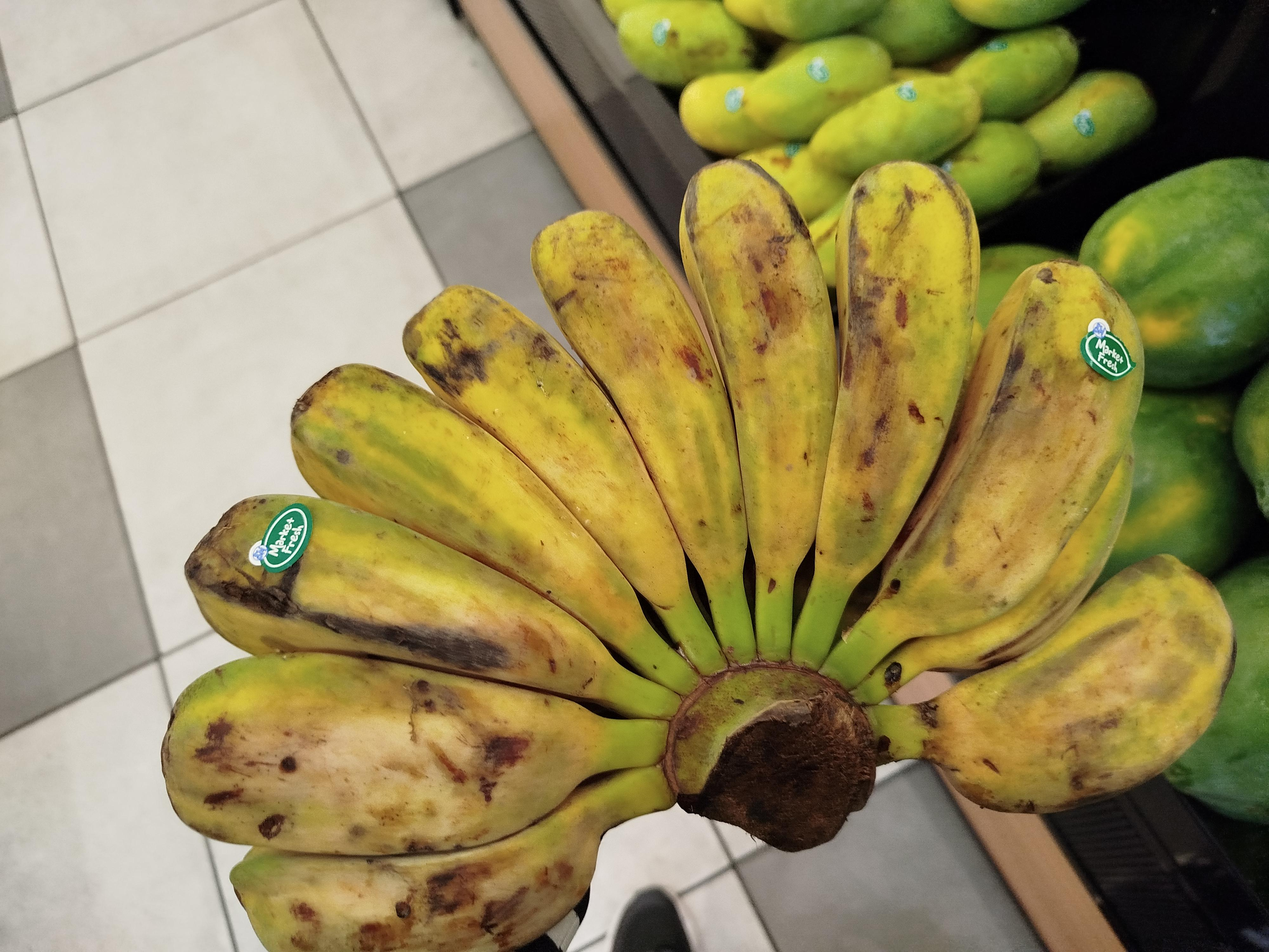underripe: (162, 162, 1235, 952)
